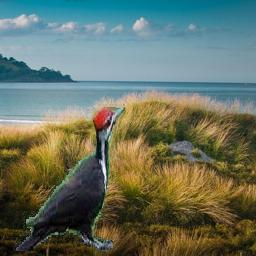Woodpecker: (13, 105, 125, 252)
